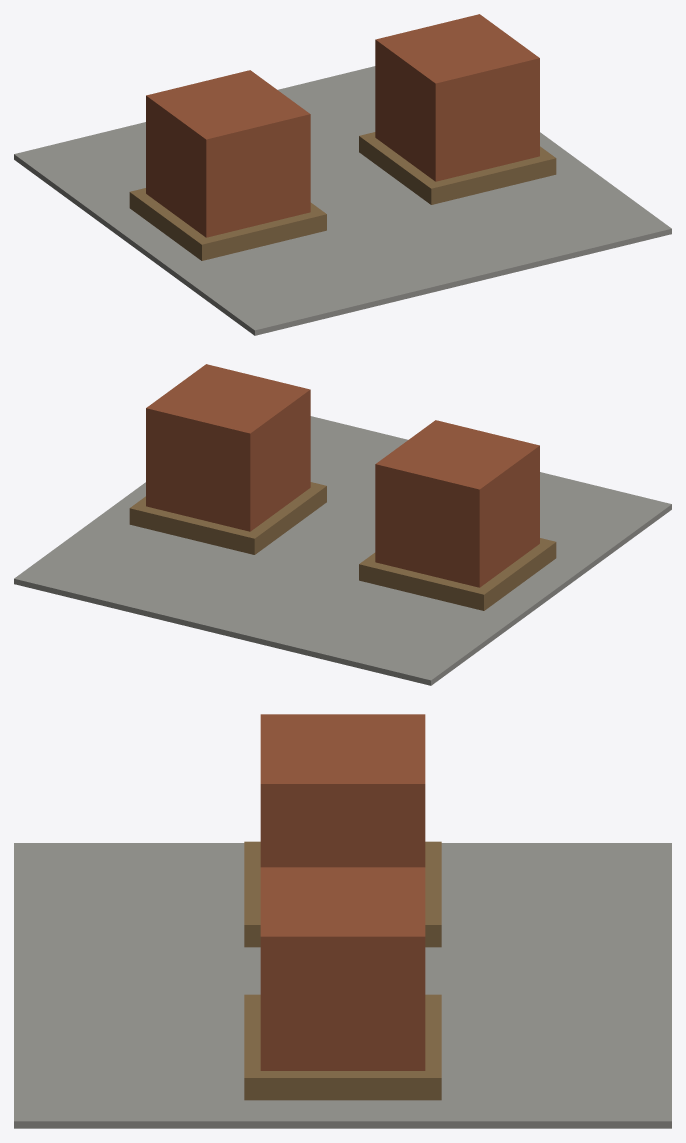
File: brick-pallets.glb
3 views of the same model, one above another, from view 1: azimuth 30°, elevation 25°; view 2: azimuth 150°, elevation 25°; view 3: azimuth 270°, elevation 25° (orthographic). The views are drawn at different scales.
Visible parts, largest first — view 1: brick-pallets; view 2: brick-pallets; view 3: brick-pallets.
Part boxes in pixels (x1,y1,x2,y2): brick-pallets: [14, 14, 671, 335]; brick-pallets: [14, 364, 671, 685]; brick-pallets: [14, 714, 671, 1128].
Size of the model in its own units: 4 by 1.1 by 4.
